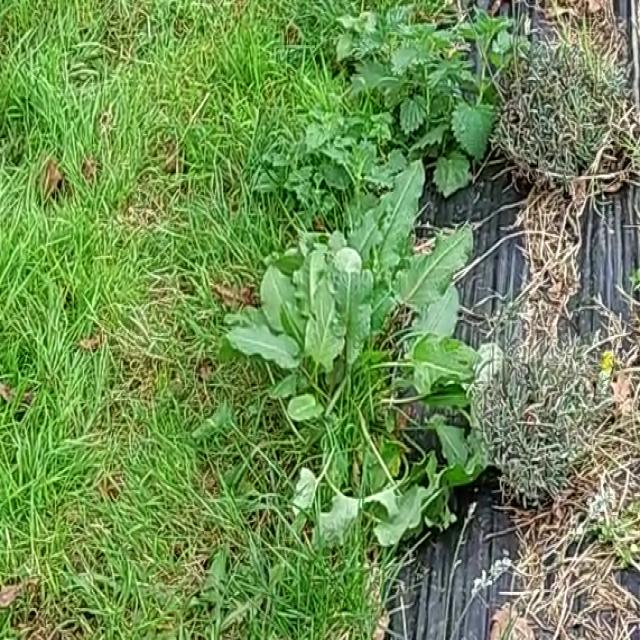organic waste: (212, 181, 517, 548)
